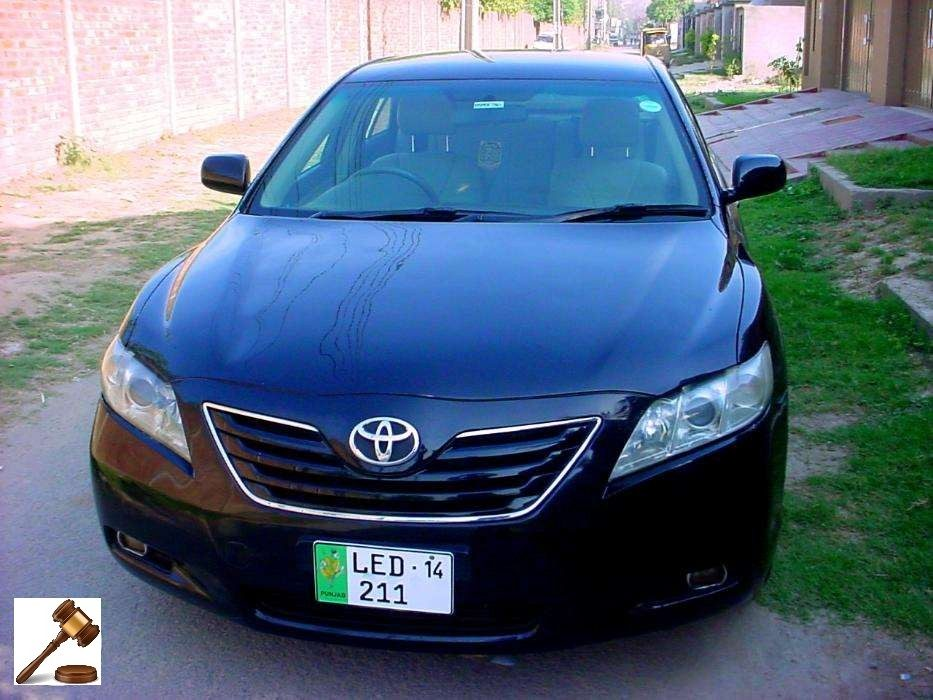plate: (311, 535, 456, 616)
